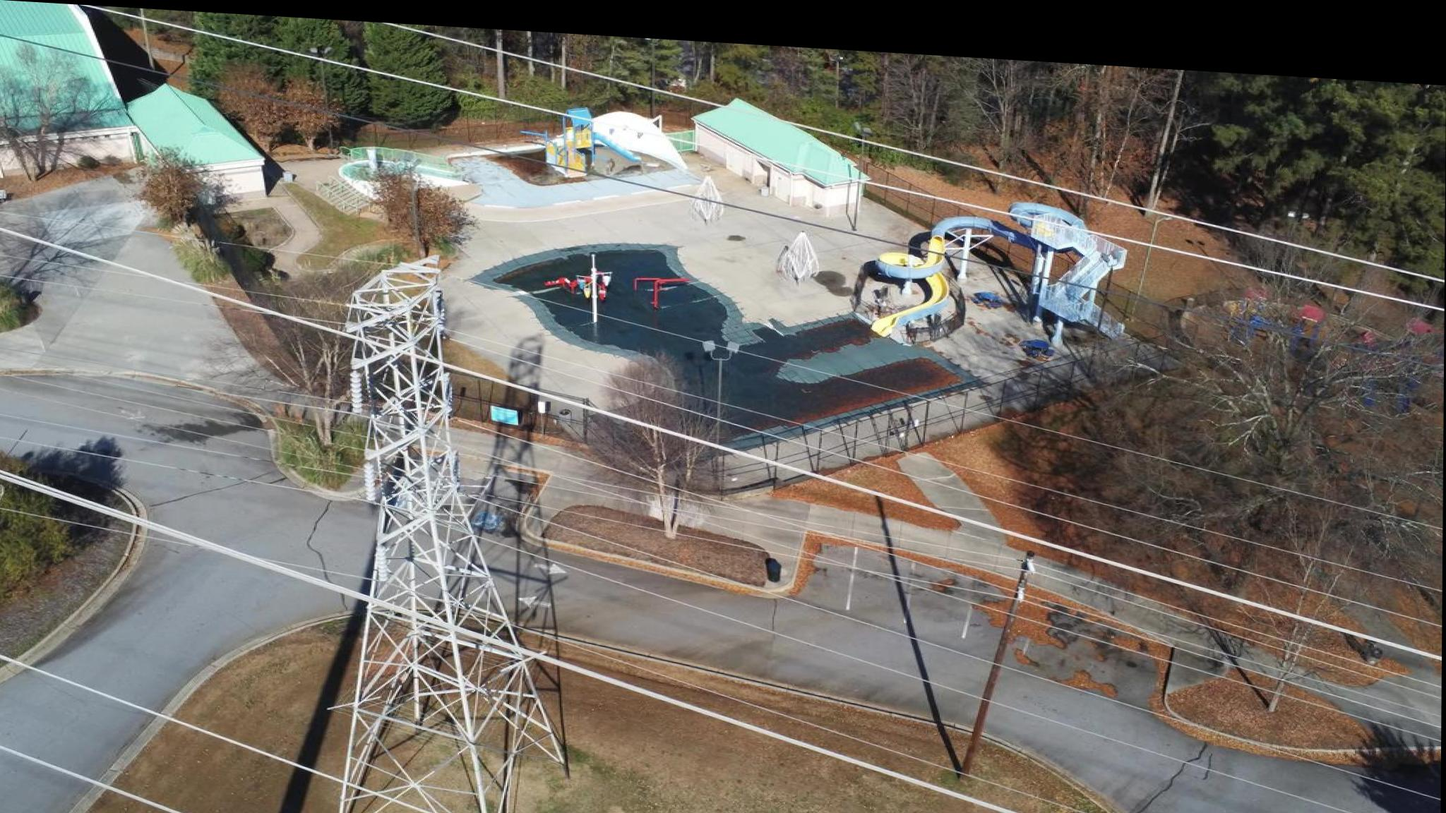tower: (331, 248, 568, 813)
